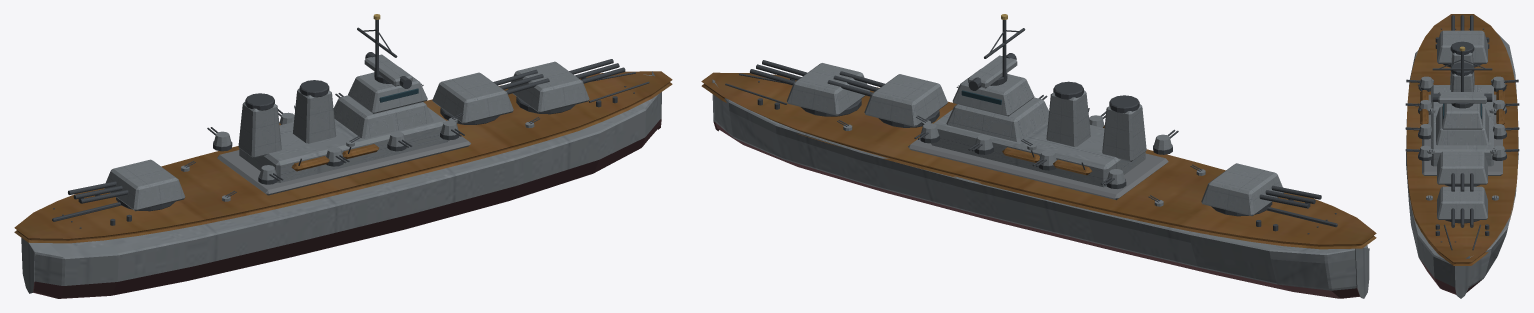
The model's file is battleship-blender.glb.
3 views of the same model, side by side, from view 1: azimuth 30°, elevation 25°; view 2: azimuth 150°, elevation 25°; view 3: azimuth 270°, elevation 25° (orthographic). The views are drawn at different scales.
Parts seen in each view (by area): view 1: Battleship_Hull, Battleship_Main_Deck, Battleship_Lower_Superstructure, Battleship_Citadels_Deck, Turret_Main_2_Housing, Turret_Main_3_Housing, Battleship_Bridge_Lower, Turret_Main_1_Housing, Battleship_Funnel_2, Battleship_Funnel_1, Battleship_Bridge_Upper, Battleship_Rangefinder (+2 smaller); view 2: Battleship_Hull, Battleship_Main_Deck, Battleship_Lower_Superstructure, Battleship_Citadels_Deck, Turret_Main_2_Housing, Turret_Main_3_Housing, Battleship_Bridge_Lower, Turret_Main_1_Housing, Battleship_Funnel_2, Battleship_Funnel_1, Battleship_Bridge_Upper, Battleship_Rangefinder (+2 smaller); view 3: Battleship_Main_Deck, Battleship_Hull, Turret_Main_2_Housing, Turret_Main_1_Housing, Battleship_Lower_Superstructure, Turret_Main_3_Housing, Battleship_Bridge_Lower, Battleship_Bridge_Upper, Battleship_Citadels_Deck, Battleship_Rangefinder, Battleship_Funnel_1, Battleship_Funnel_2 (+19 smaller).
Boxes of the visible parts, x1,y1,x2,y2 form: Battleship_Hull: [21, 71, 661, 298]; Battleship_Main_Deck: [14, 71, 672, 243]; Battleship_Lower_Superstructure: [239, 107, 448, 182]; Battleship_Citadels_Deck: [217, 136, 470, 195]; Turret_Main_2_Housing: [432, 72, 513, 124]; Turret_Main_3_Housing: [104, 159, 185, 211]; Battleship_Bridge_Lower: [333, 95, 433, 138]; Turret_Main_1_Housing: [508, 61, 589, 113]; Battleship_Funnel_2: [238, 102, 281, 158]; Battleship_Funnel_1: [293, 88, 336, 143]; Battleship_Bridge_Upper: [348, 67, 427, 113]; Battleship_Rangefinder: [364, 54, 412, 86]; Battleship_Hull: [712, 79, 1369, 298]; Battleship_Main_Deck: [701, 72, 1376, 249]; Battleship_Lower_Superstructure: [931, 110, 1145, 187]; Battleship_Citadels_Deck: [908, 139, 1168, 200]; Turret_Main_2_Housing: [864, 74, 947, 126]; Turret_Main_3_Housing: [1201, 163, 1283, 216]; Battleship_Bridge_Lower: [946, 97, 1048, 141]; Turret_Main_1_Housing: [786, 63, 869, 115]; Battleship_Funnel_2: [1102, 104, 1146, 161]; Battleship_Funnel_1: [1046, 90, 1090, 146]; Battleship_Bridge_Upper: [952, 69, 1034, 116]; Battleship_Rangefinder: [968, 55, 1017, 88]; Battleship_Main_Deck: [1406, 14, 1518, 265]; Battleship_Hull: [1406, 32, 1518, 298]; Turret_Main_2_Housing: [1437, 151, 1487, 184]; Turret_Main_1_Housing: [1437, 186, 1487, 219]; Battleship_Lower_Superstructure: [1431, 85, 1493, 166]; Turret_Main_3_Housing: [1437, 30, 1487, 63]; Battleship_Bridge_Lower: [1436, 106, 1488, 145]; Battleship_Bridge_Upper: [1442, 103, 1482, 129]; Battleship_Citadels_Deck: [1422, 94, 1502, 175]; Battleship_Rangefinder: [1438, 92, 1486, 103]; Battleship_Funnel_1: [1451, 73, 1473, 91]; Battleship_Funnel_2: [1450, 52, 1474, 89].
Size of the model in its own units: 39.2 by 11.51 by 7.6.
7 materials, 2 textured.
